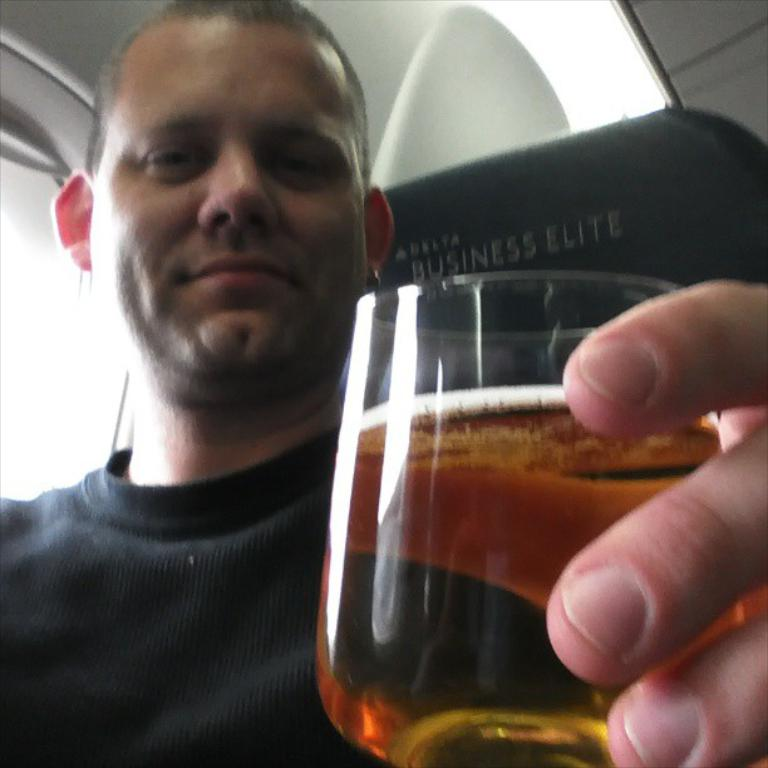Beer: (314, 382, 724, 766)
